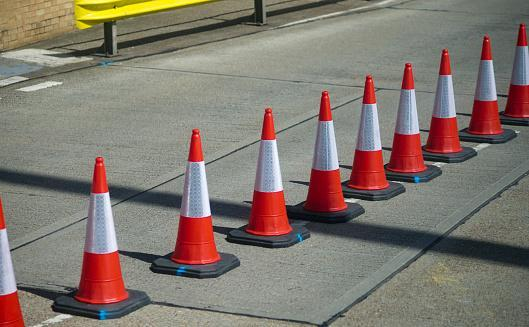Cone: (53, 156, 154, 321), (154, 128, 239, 278), (230, 107, 311, 248), (287, 91, 365, 223), (340, 75, 404, 199), (381, 63, 442, 184), (416, 49, 477, 165), (457, 36, 515, 146)
